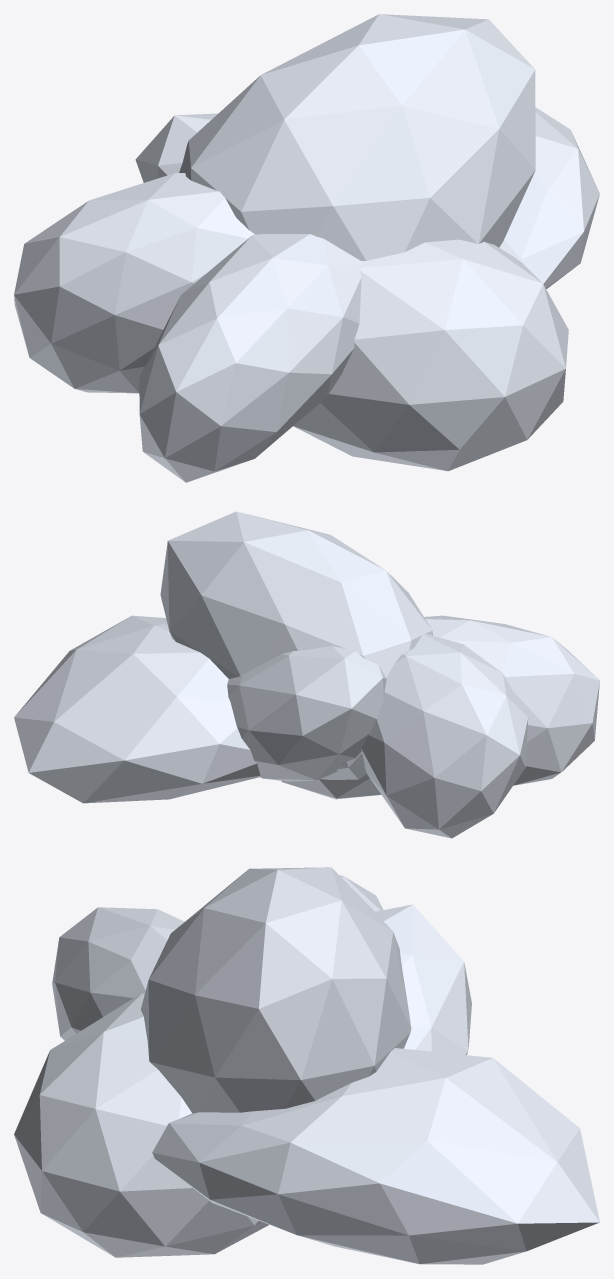
The model's file is Cloud1.fbx.
The picture shows the model from 3 angles, top to bottom: view 1: azimuth 30°, elevation 25°; view 2: azimuth 150°, elevation 25°; view 3: azimuth 270°, elevation 25°; orthographic projection. The views are drawn at different scales.
Parts seen in each view (by area): view 1: Cloud1; view 2: Cloud1; view 3: Cloud1.
Part boxes in pixels (x1,y1,x2,y2): Cloud1: (14, 14, 599, 482); Cloud1: (14, 511, 599, 838); Cloud1: (14, 867, 599, 1264).
Bounding box in the file's own units: 399 × 455 × 277.
